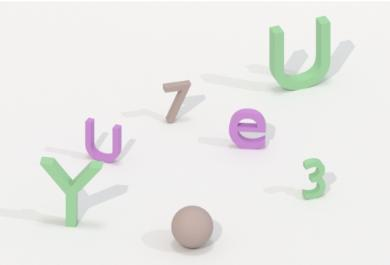0-Tron: (169, 201, 216, 251)
3: (300, 155, 329, 206)
7: (157, 76, 195, 127)
U: (267, 14, 336, 94), (83, 115, 127, 165)
Y: (37, 155, 106, 232)
e: (227, 104, 270, 152)
